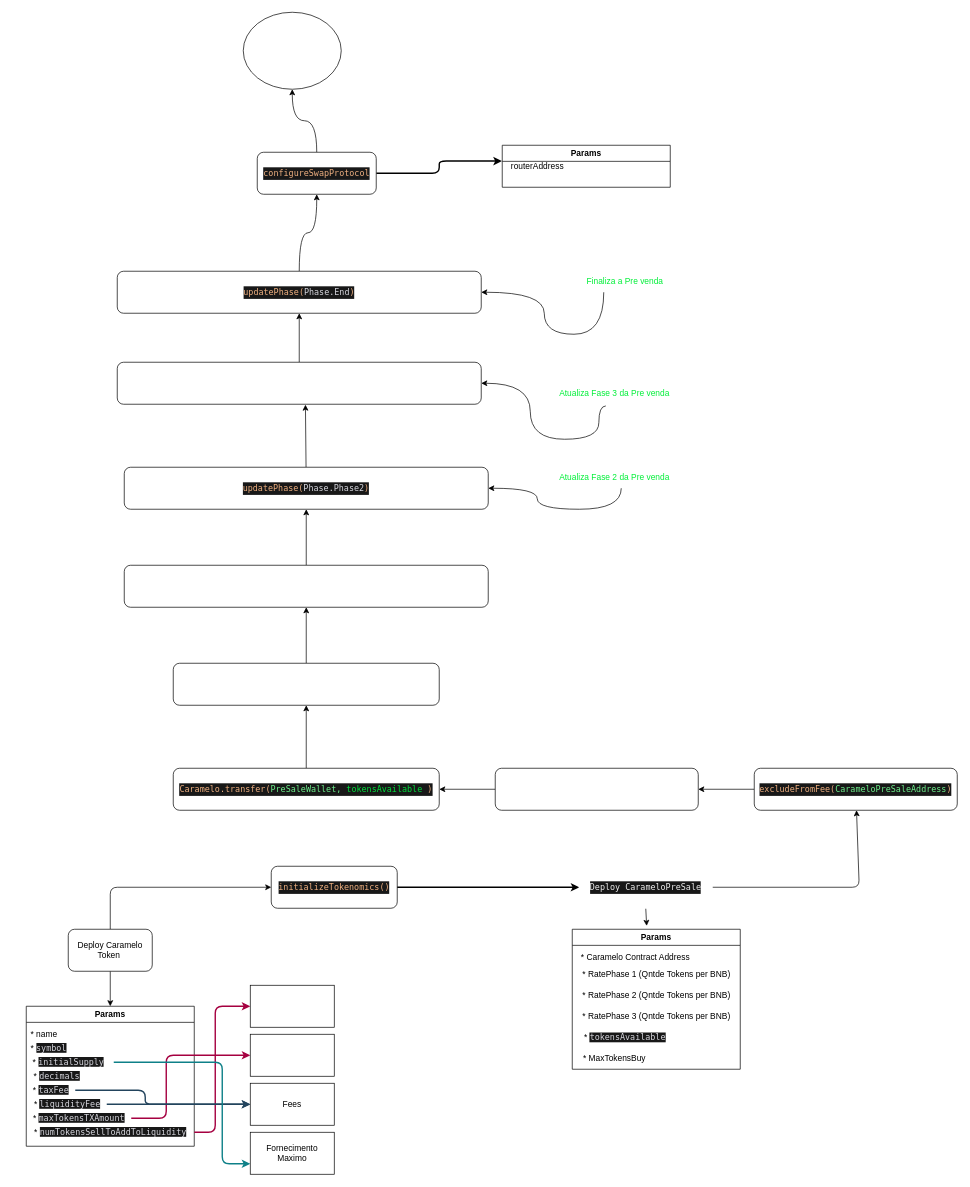
The diagram is 970 pixels wide and 1187 high, and some of its shapes have lost their labels. The shapes that lost their labels are listed below. From the top down, each one's centre as x and y in pixels, then its label:
the point at 292,50: SWAP PancakeSwap
the point at 299,383: updatePhase( Phase.Phase3 )
the point at 306,586: addMultipleToWhitelist([ userWallet1, userWallet2, userWallet3, ... ] )
the point at 306,684: initializePreSale()
the point at 596,789: excludeFromFee( PreSaleWallet )
the point at 292,1006: Numeros de tokens para ativar Swap_and_Liquify
the point at 292,1055: Numero tokens maximo permitido para transfer
